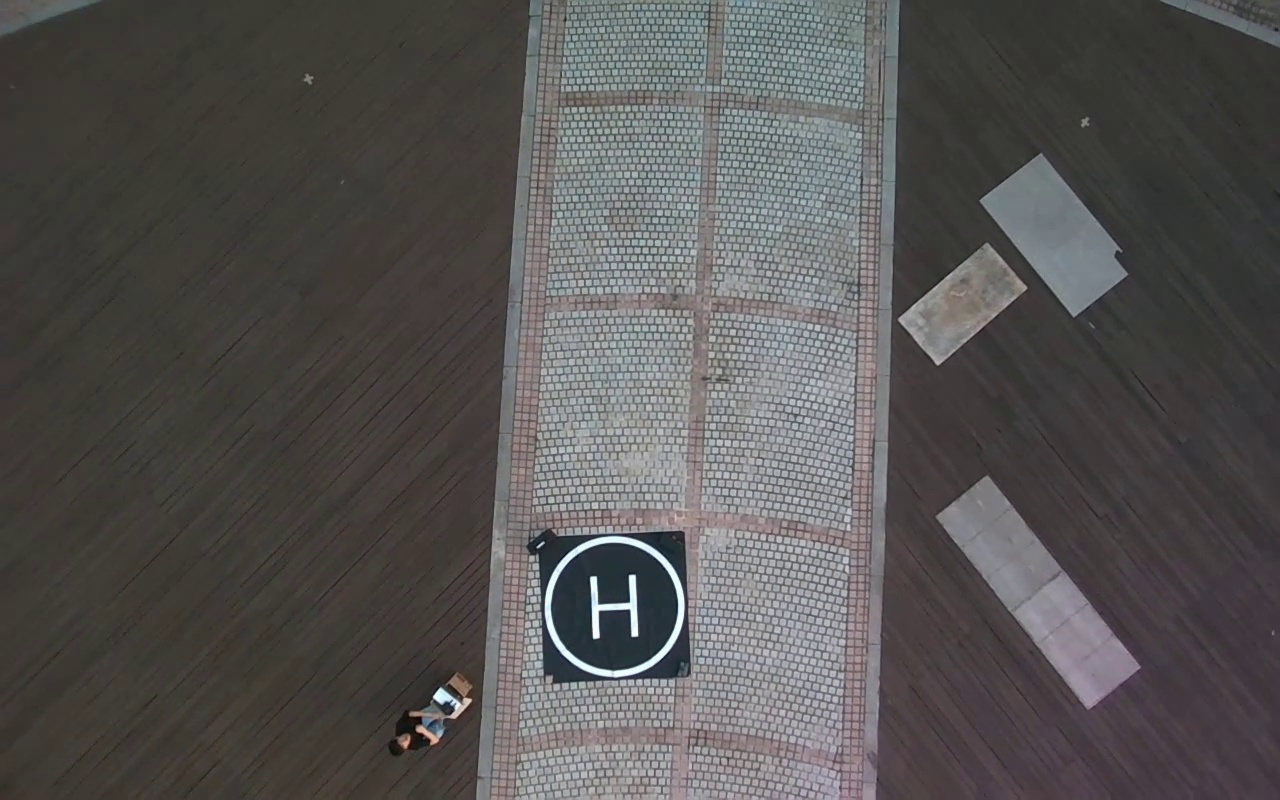H: (588, 574, 639, 638)
heliport: (545, 537, 684, 675)
